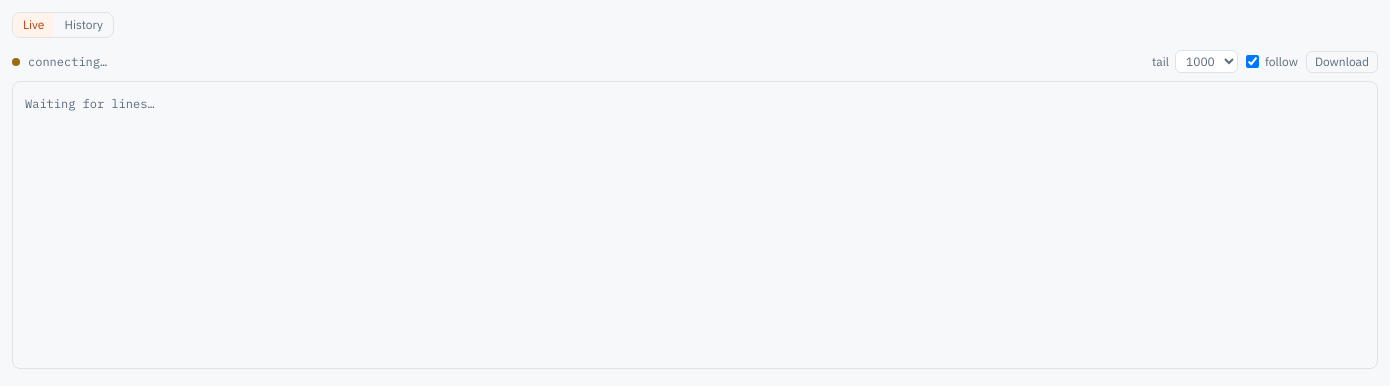
it: LogsPanel — сегмент Live | История › unavailable/unconfigured → мягкая заметка (i18n-ключ), не ошибка
This screenshot has width=1390, height=386.
Click the button "History".
click(84, 25)  # box left=54, top=13, right=113, bottom=37
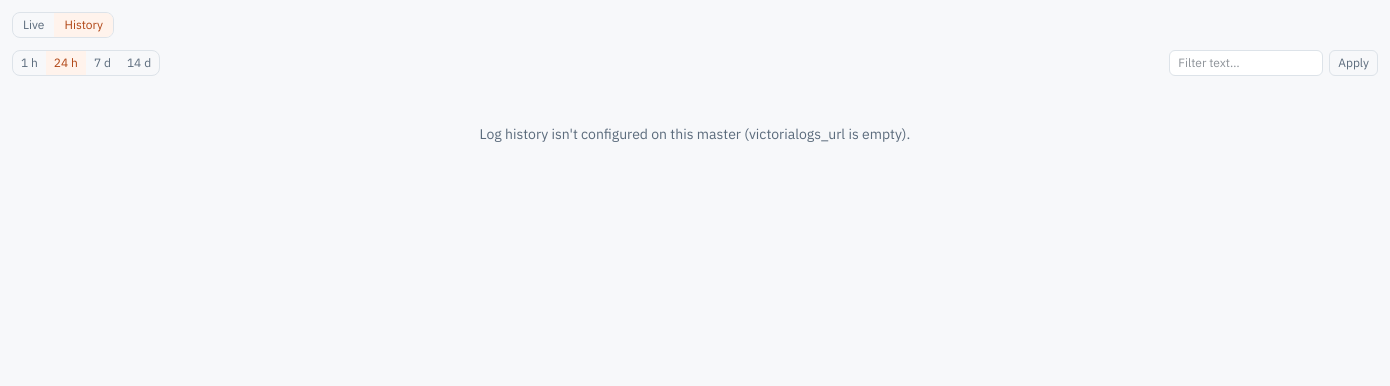
Now the text "Log history isn't configured on this master (victorialogs_url is empty)." is shown, box left=480, top=125, right=910, bottom=143
